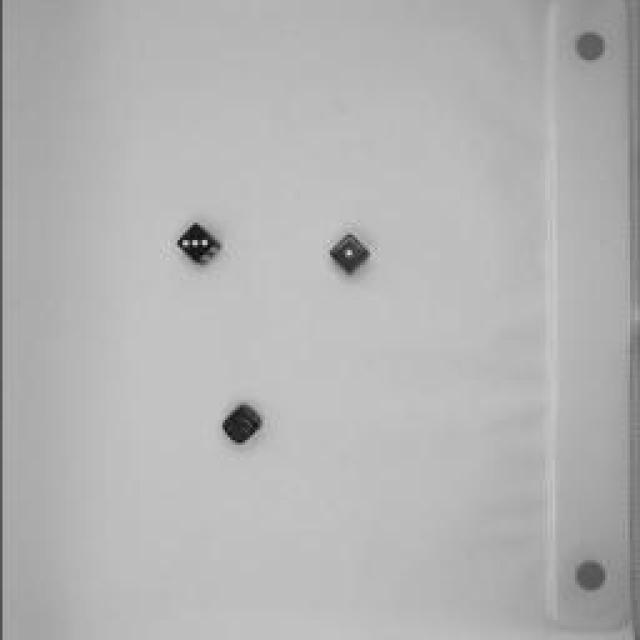dice_1: (320, 229, 372, 281)
dice_2: (215, 399, 265, 451)
dice_3: (174, 220, 226, 270)
